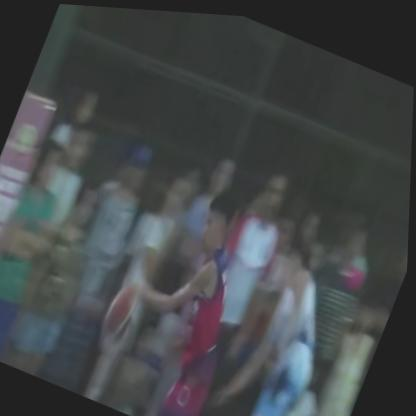basketball: (91, 266, 163, 367)
